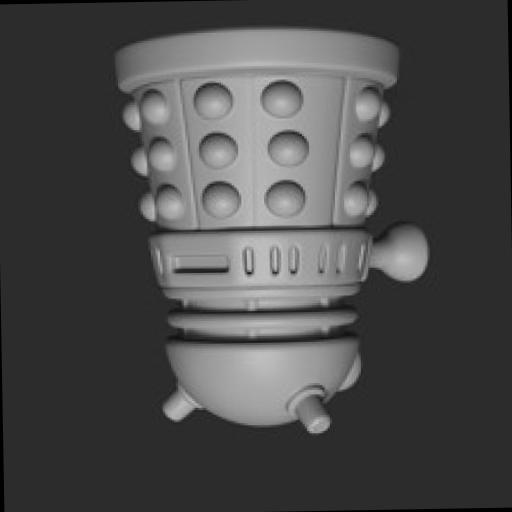dalek: (108, 27, 435, 443)
